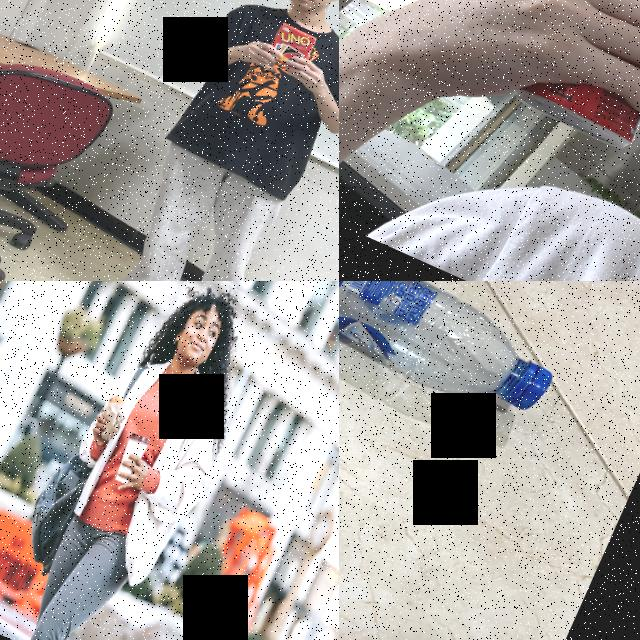bottle: (339, 281, 587, 441)
can: (508, 0, 640, 159)
cup: (110, 430, 152, 488)
